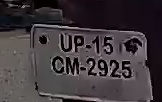1: (92, 35, 102, 57)
2: (108, 57, 122, 82), (85, 57, 98, 79)
5: (120, 60, 136, 82), (102, 35, 117, 57)
9: (97, 58, 109, 82)
C: (50, 54, 65, 76)
M: (65, 57, 81, 77)
P: (74, 34, 84, 56)
U: (56, 30, 74, 55)
